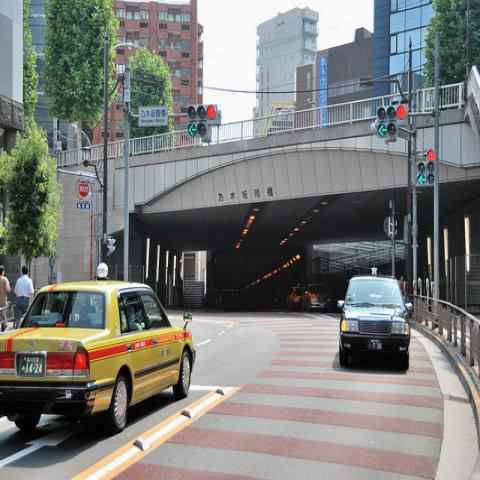car: (0, 278, 197, 433), (338, 273, 414, 369), (302, 281, 332, 314), (287, 283, 306, 310)
